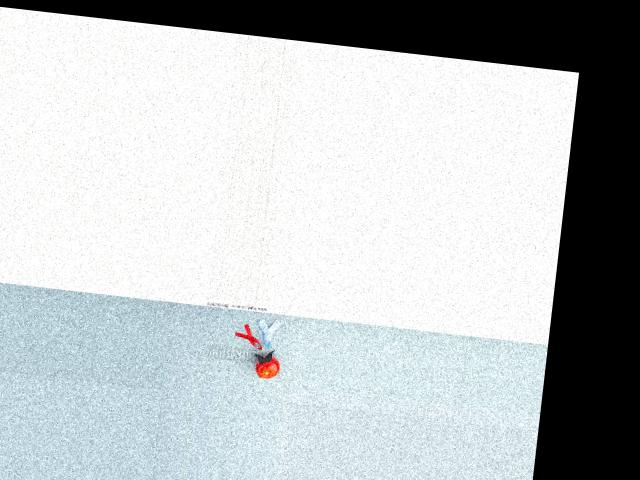tomato: (253, 354, 280, 379)
